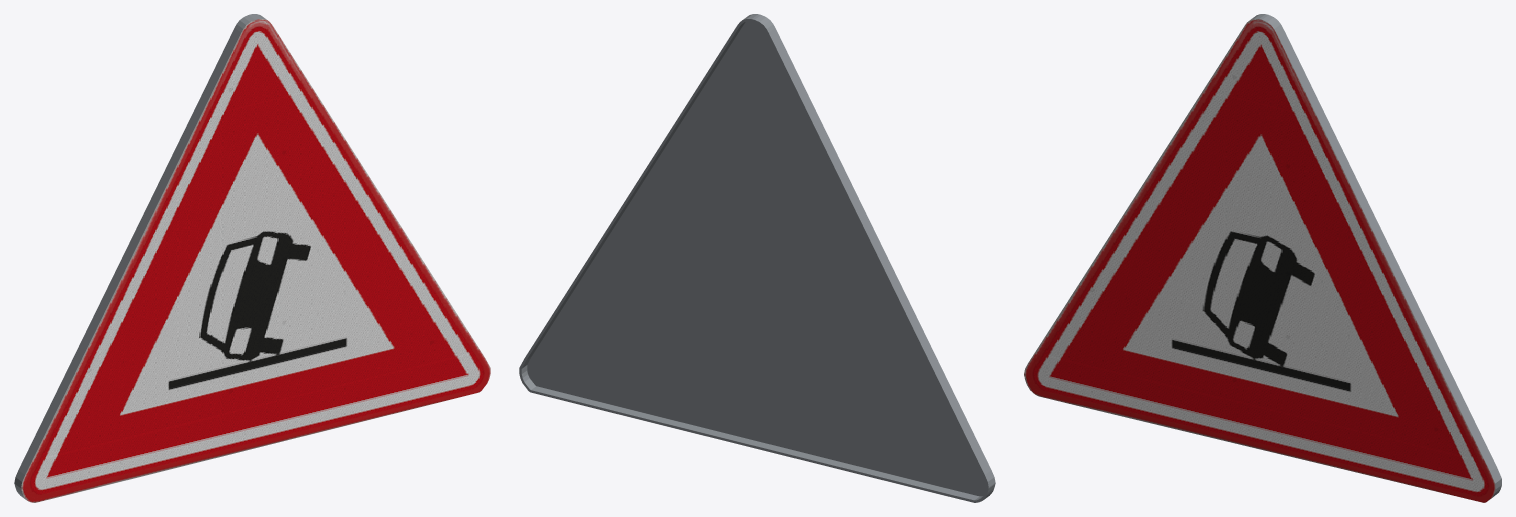
3 views of the same model, side by side, from view 1: azimuth 30°, elevation 25°; view 2: azimuth 150°, elevation 25°; view 3: azimuth 330°, elevation 25° (orthographic).
Parts seen in each view (by area): view 1: cat_bce7916e5001bd9c; view 2: cat_bce7916e5001bd9c; view 3: cat_bce7916e5001bd9c.
Boxes of the visible parts, left/top/right/bottom form: cat_bce7916e5001bd9c: left=14, top=14, right=490, bottom=502; cat_bce7916e5001bd9c: left=519, top=14, right=995, bottom=502; cat_bce7916e5001bd9c: left=1024, top=14, right=1501, bottom=502.
Bounding box in the file's own units: 0.6 × 0.015 × 0.5245.
Materials: 2 (1 with a texture image).
